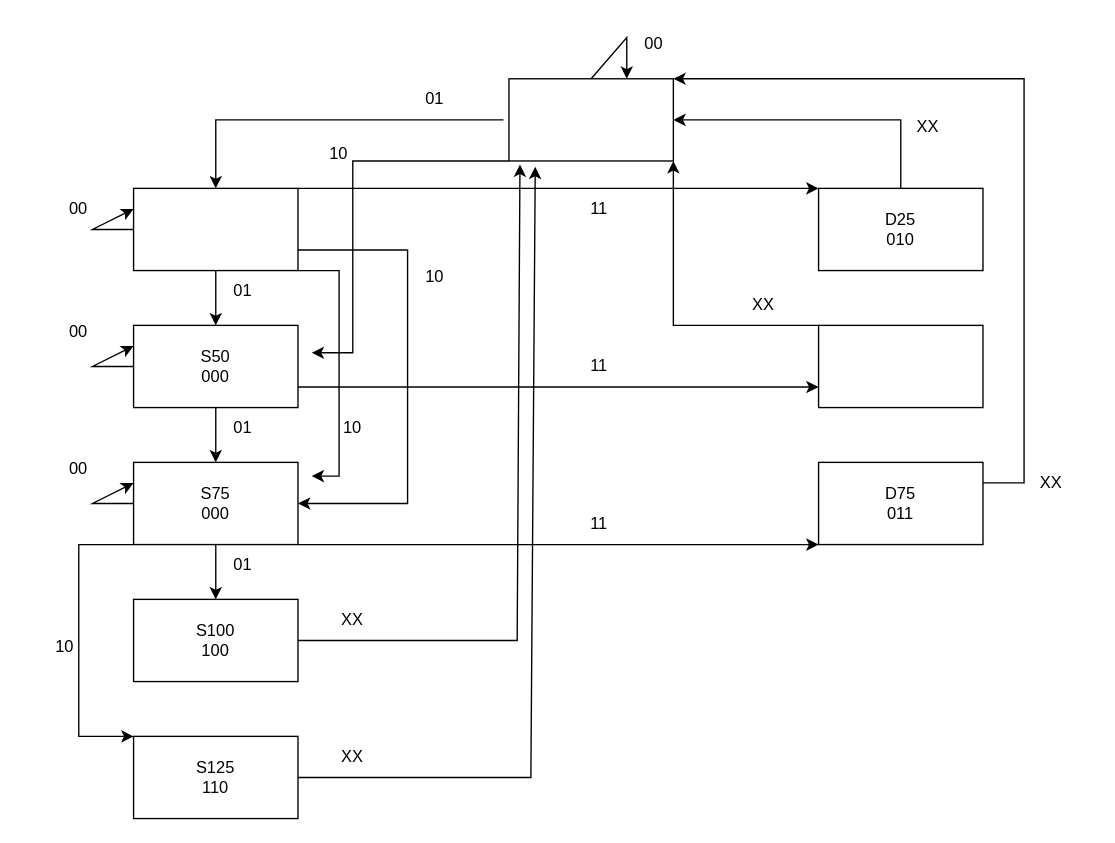
This 1115x843 diagram has some shape labels left out. The centre of each missing label's shape, as x and y in pixels:
D50 001: [900,366]
S0 000: [590,119]
S25 000: [215,229]
